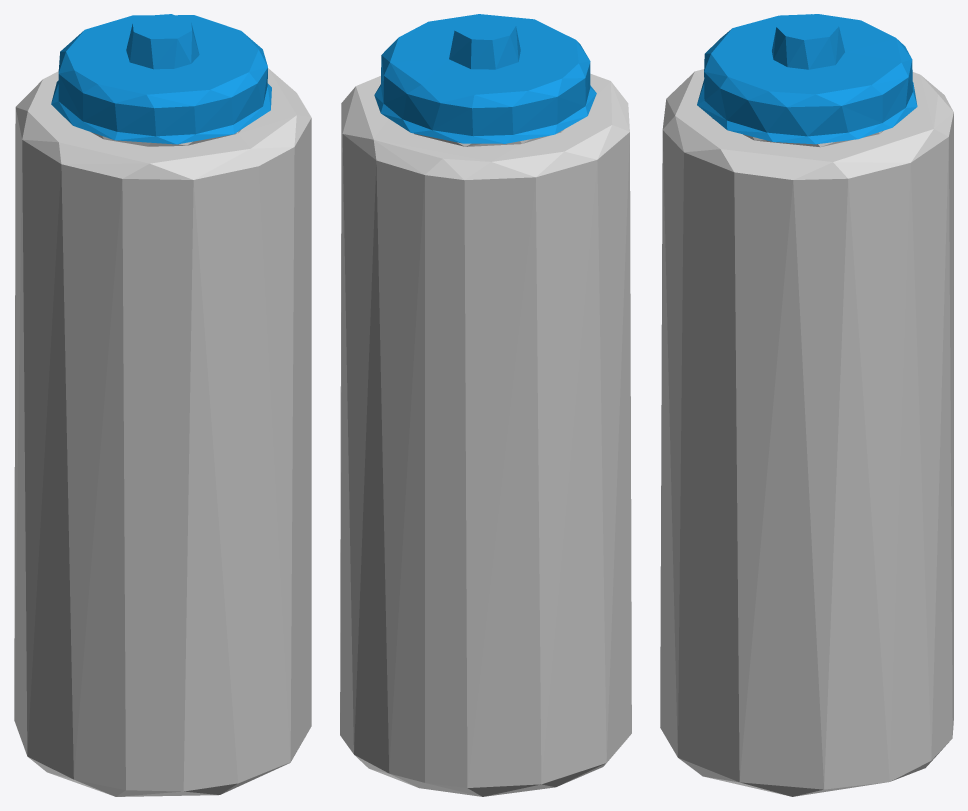
The model's file is MayoBottle.fbx.
3 views of the same model, side by side, from view 1: azimuth 30°, elevation 25°; view 2: azimuth 150°, elevation 25°; view 3: azimuth 270°, elevation 25° (orthographic).
Parts seen in each view (by area): view 1: Cylinder.003; view 2: Cylinder.003; view 3: Cylinder.003.
Part boxes in pixels (box(x1,y1,x2,y2)): Cylinder.003: box(14, 14, 311, 796); Cylinder.003: box(340, 14, 631, 796); Cylinder.003: box(660, 14, 953, 796).
Size of the model in its own units: 80.08 by 213 by 79.59.
